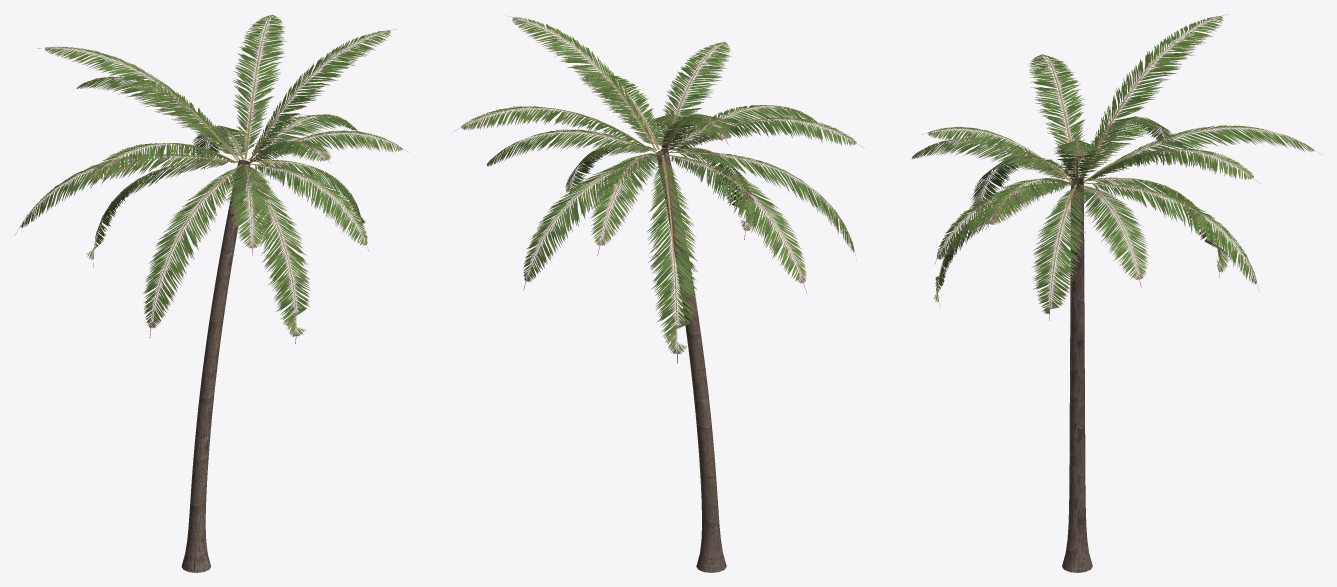
Rendered from palmera.obj.
3 views of the same model, side by side, from view 1: azimuth 30°, elevation 25°; view 2: azimuth 150°, elevation 25°; view 3: azimuth 270°, elevation 25° (orthographic). The views are drawn at different scales.
Parts seen in each view (by area): view 1: palmera; view 2: palmera; view 3: palmera.
Part boxes in pixels (box(x1,y1,x2,y2)): palmera: box(14, 14, 408, 572); palmera: box(452, 15, 864, 572); palmera: box(912, 14, 1322, 572).
Size of the model in its own units: 6.37 by 8.73 by 6.57.
